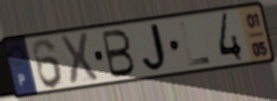4: (216, 11, 246, 64)
6: (31, 36, 66, 91)
B: (100, 28, 137, 81)
J: (141, 21, 172, 75)
L: (177, 20, 213, 68)
X: (57, 31, 101, 87)
